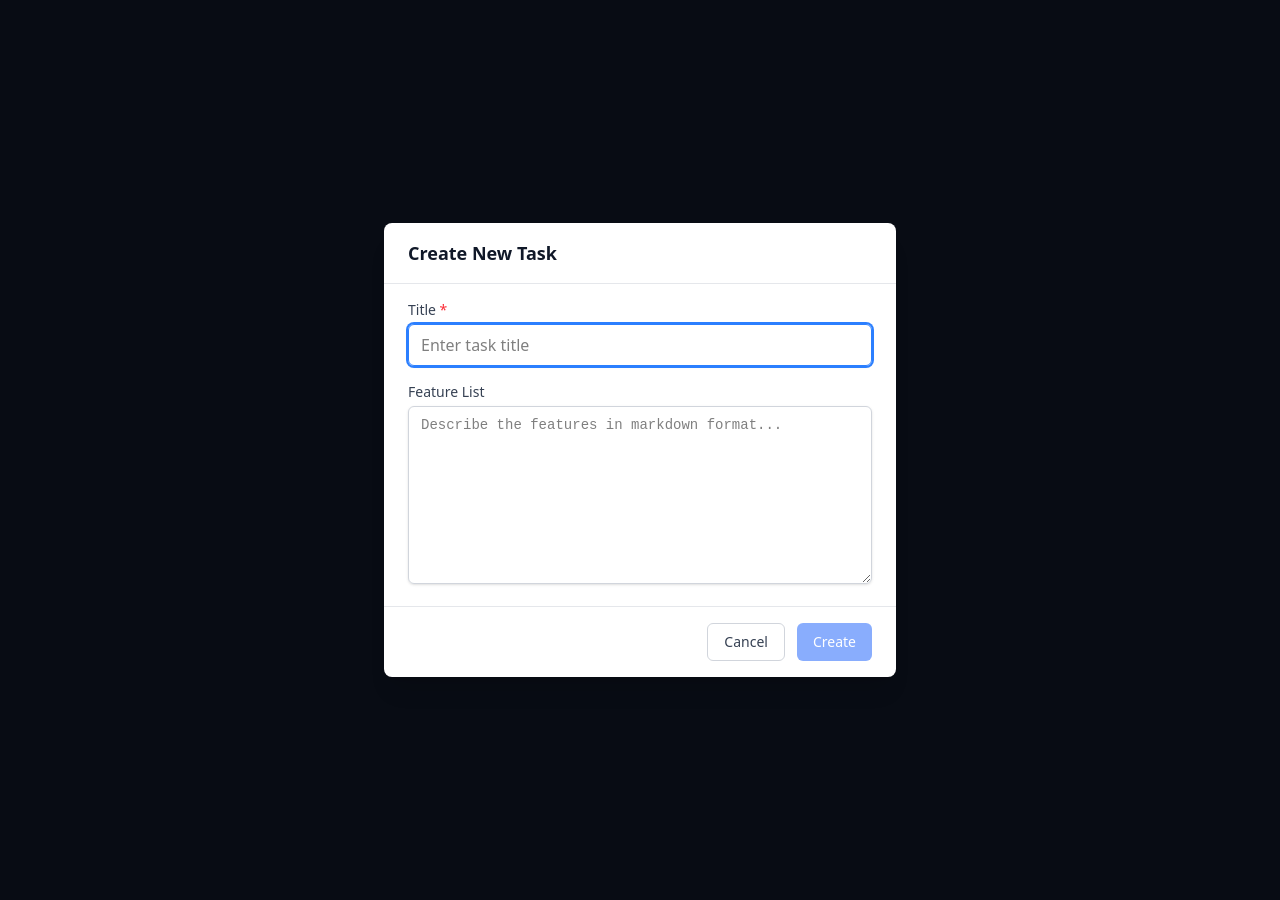
Test case: TaskCreateModal › Validation › should enable create button when title is provided
Type "Valid Title" into the field labelled "Title *" at [640, 345], box [408,324,872,366]
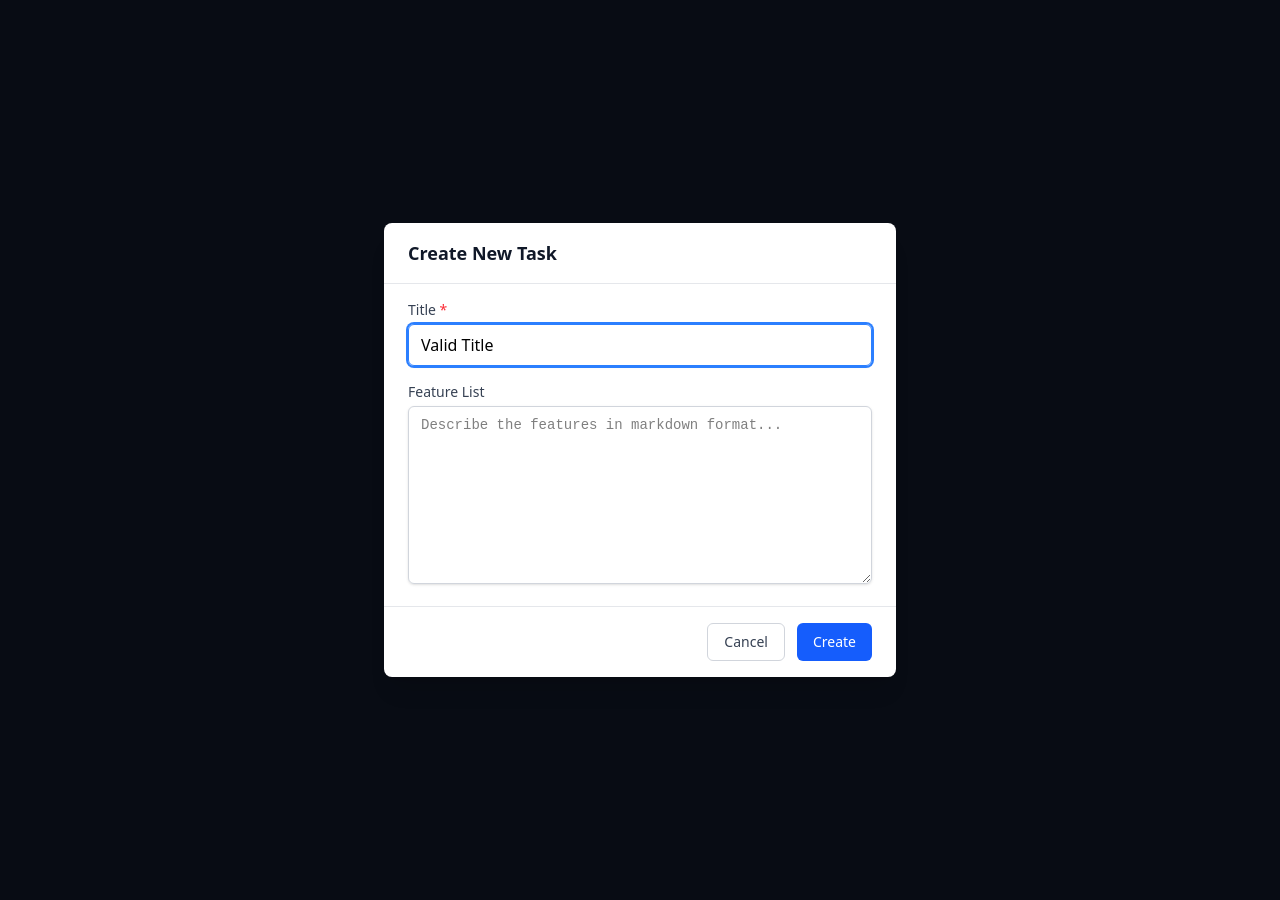
Now the button "Create" is enabled, box [797,623,872,661]
